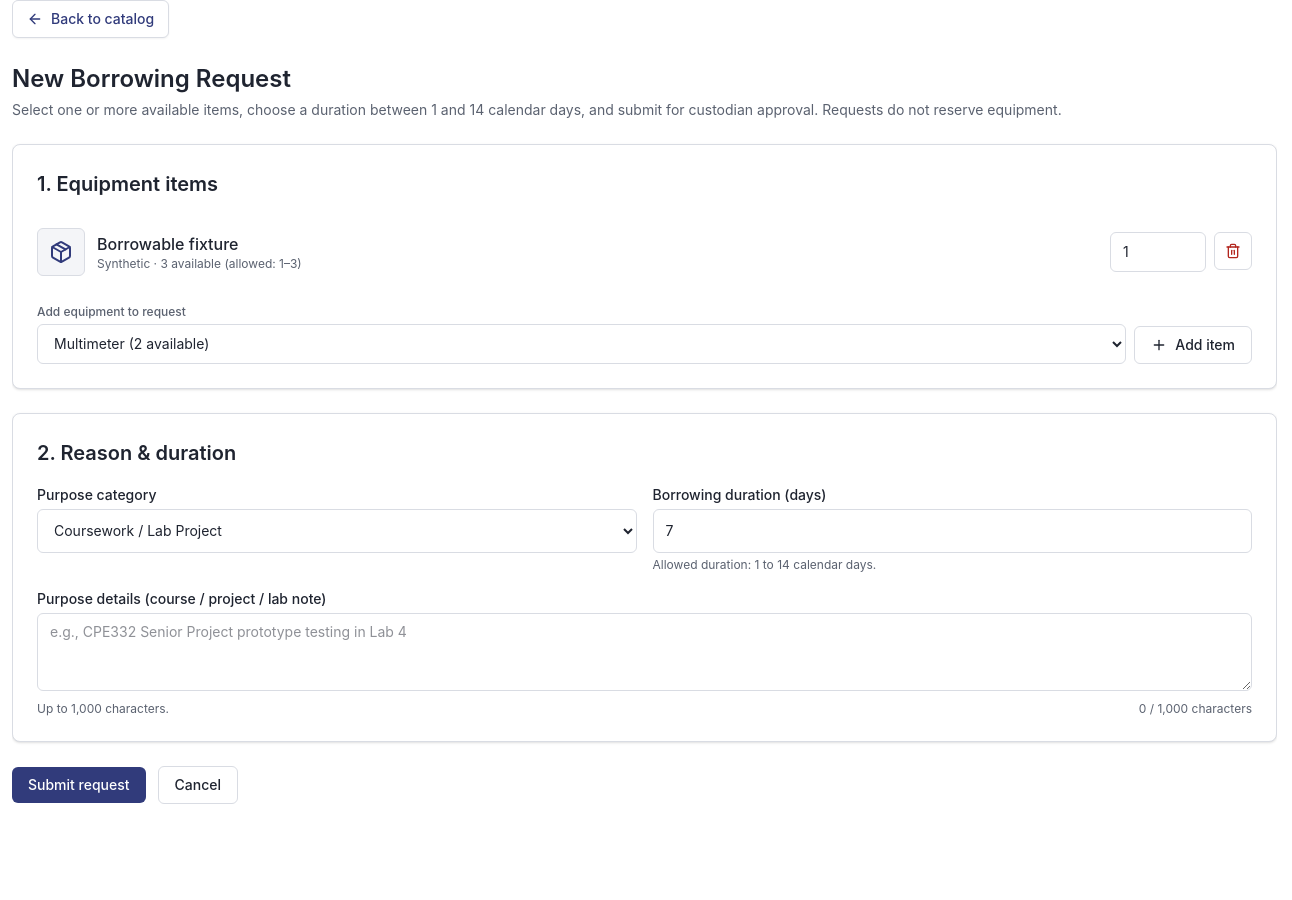
it: F-04 / F-11 request creation & management UI › rejects invalid quantity  cleanly (UAT-07 hint)
Clear the 1st number field at (1158, 252), box [1110,232,1206,272]
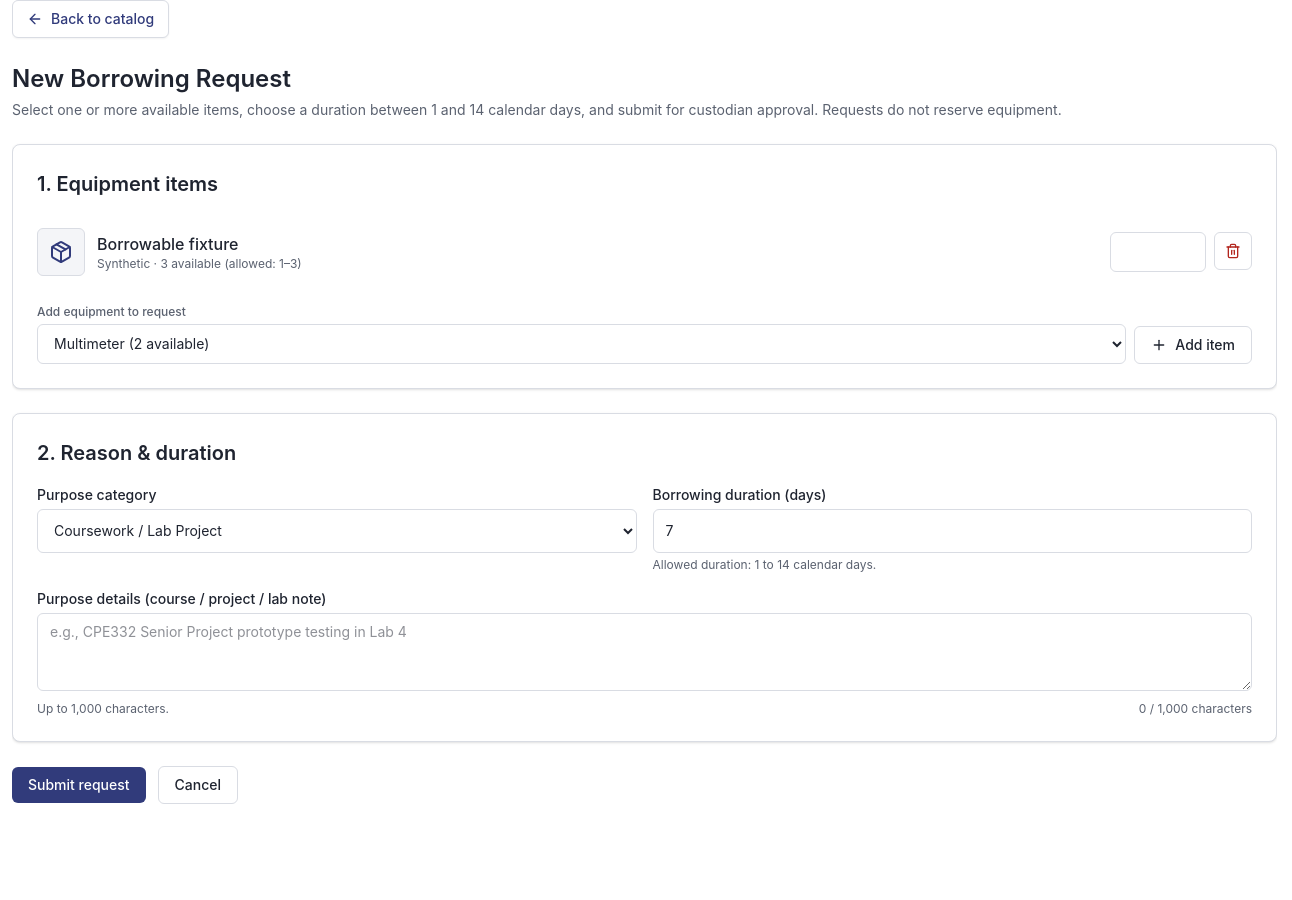
Click the button "Submit request".
click(79, 785)  # box [12,767,146,803]
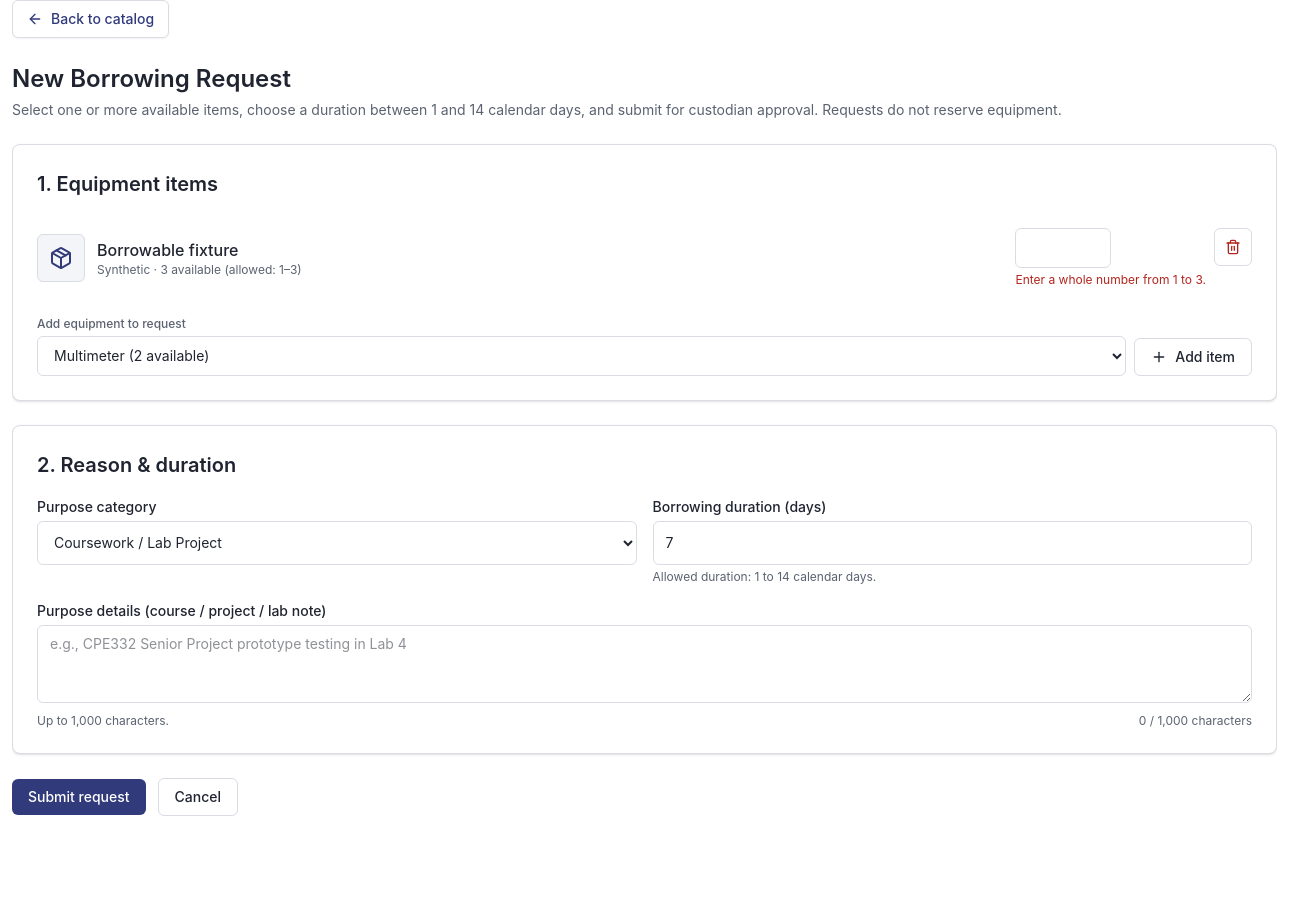
Expected: the text "Enter a whole number from 1 to 3." is shown, [1016,272,1206,288]
